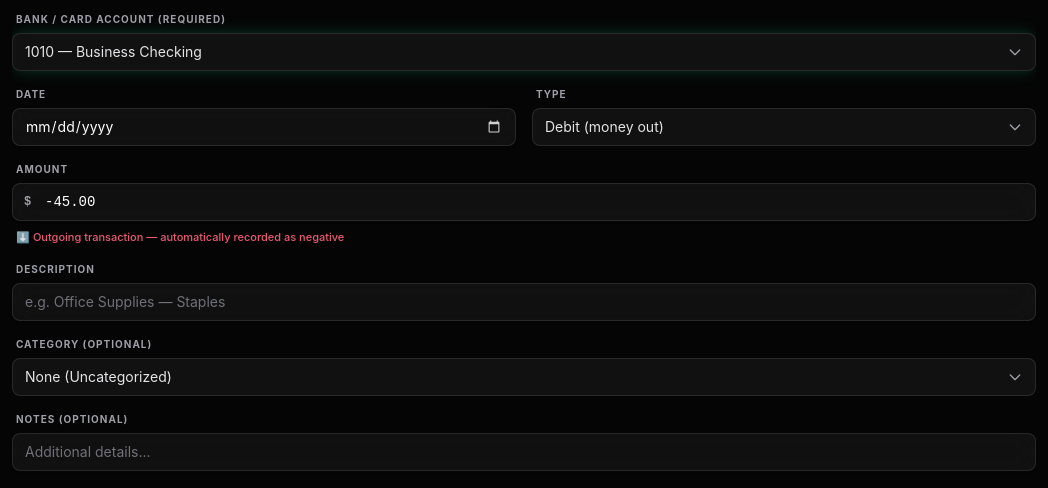
Test: CreateTransactionForm › coerces signs when toggling between outgoing DEBIT and incoming DEP types
Later steps or results of the test are not shown.
Expected: the text "⬇ Outgoing transaction — automatically recorded as negative" is shown, 16,230 -> 344,244
Click the button named "Bank / Card Account (Required)" at (113, 52), box 12,33 -> 1036,71
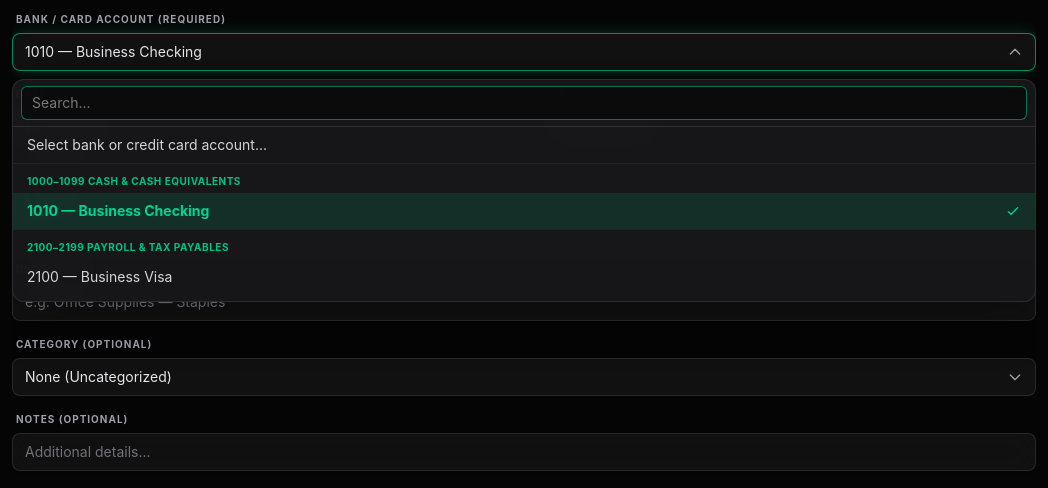
Click the option "2100 — Business Visa" at (100, 276), box 13,259 -> 1035,295
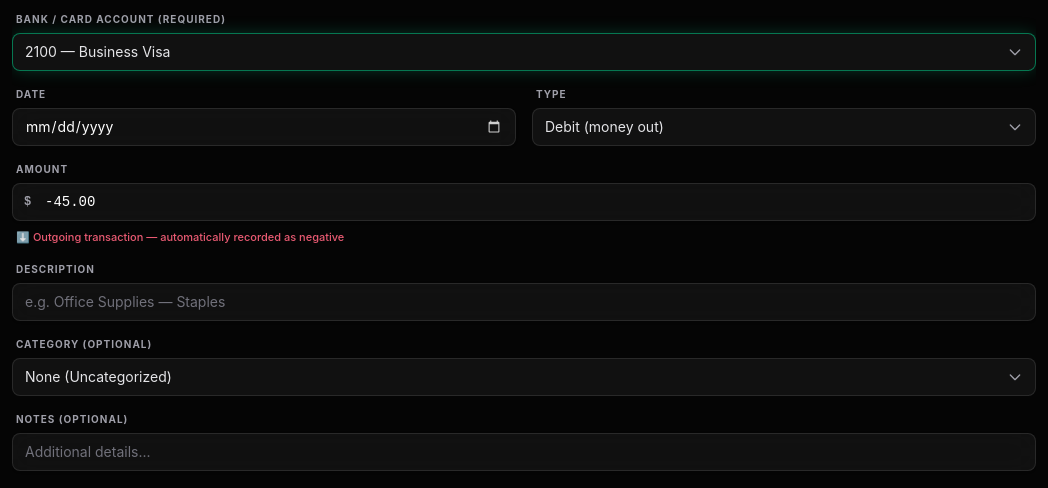
Click the button named "Type" at (604, 126), box 532,108 -> 1036,146
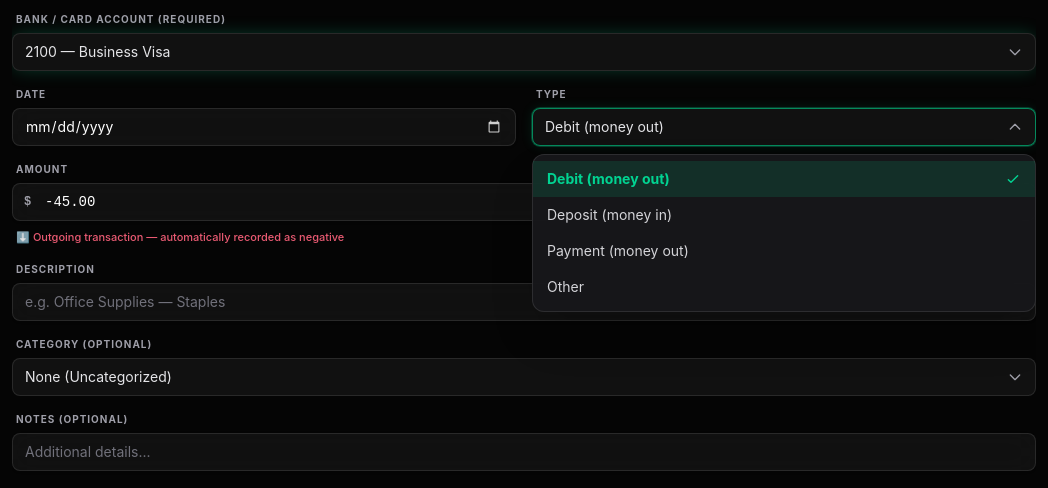
Click the option "Deposit (money in)" at (610, 214), box 533,197 -> 1035,233
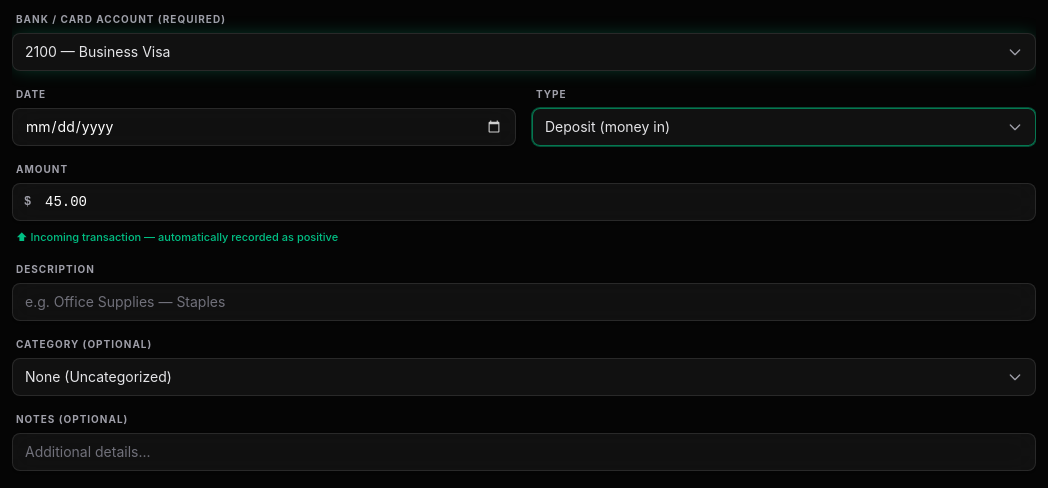
Now the text "⬆ Incoming transaction — automatically recorded as positive" is shown, box 16,230 -> 338,244
